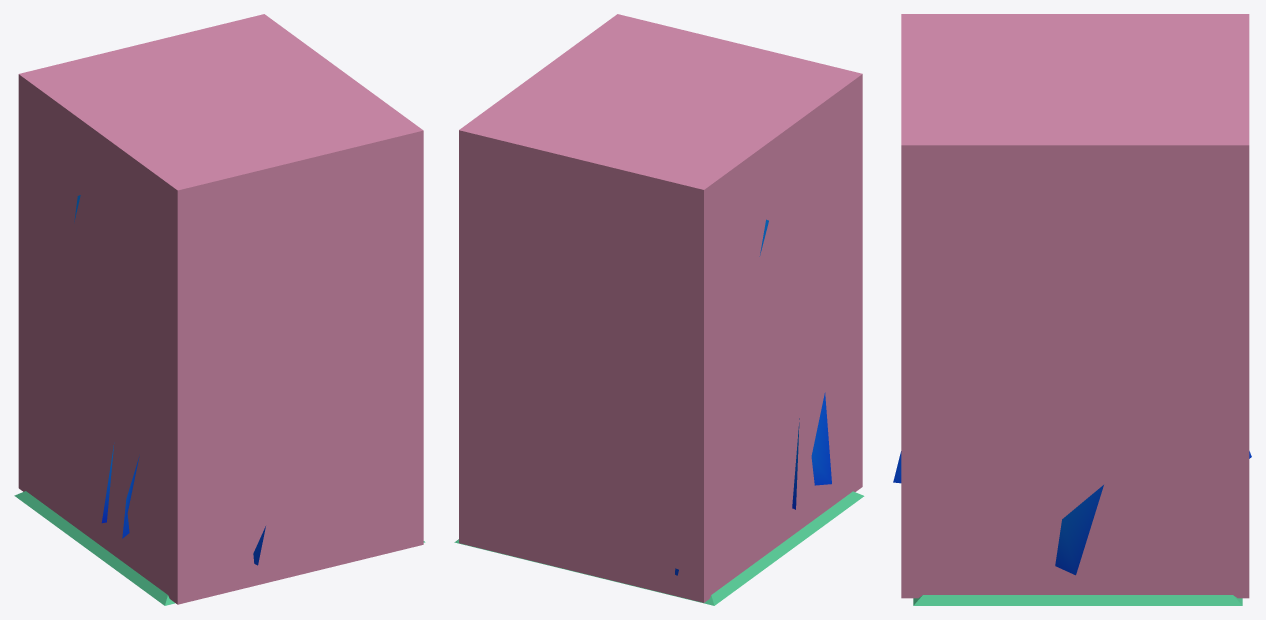
Rendered from tree_beech_bush_c.dae.
The picture shows the model from 3 angles, left to right: view 1: azimuth 30°, elevation 25°; view 2: azimuth 150°, elevation 25°; view 3: azimuth 270°, elevation 25°; orthographic projection. The views are drawn at different scales.
Parts seen in each view (by area): view 1: Untitled, Colmesh-1, tree_oak_bush_a430; view 2: Untitled, Colmesh-1, tree_oak_bush_a430; view 3: Untitled, Colmesh-1, tree_oak_bush_a130.
Part boxes in pixels (bbox=[...]): Untitled: bbox=[18, 14, 423, 604]; Colmesh-1: bbox=[14, 491, 425, 605]; tree_oak_bush_a430: bbox=[74, 195, 265, 565]; Untitled: bbox=[459, 14, 862, 602]; Colmesh-1: bbox=[454, 491, 864, 605]; tree_oak_bush_a430: bbox=[675, 220, 831, 575]; Untitled: bbox=[901, 14, 1249, 598]; Colmesh-1: bbox=[913, 595, 1242, 605]; tree_oak_bush_a130: bbox=[893, 451, 1251, 575].
Size of the model in its own units: 2.61 by 2.62 by 3.68.
